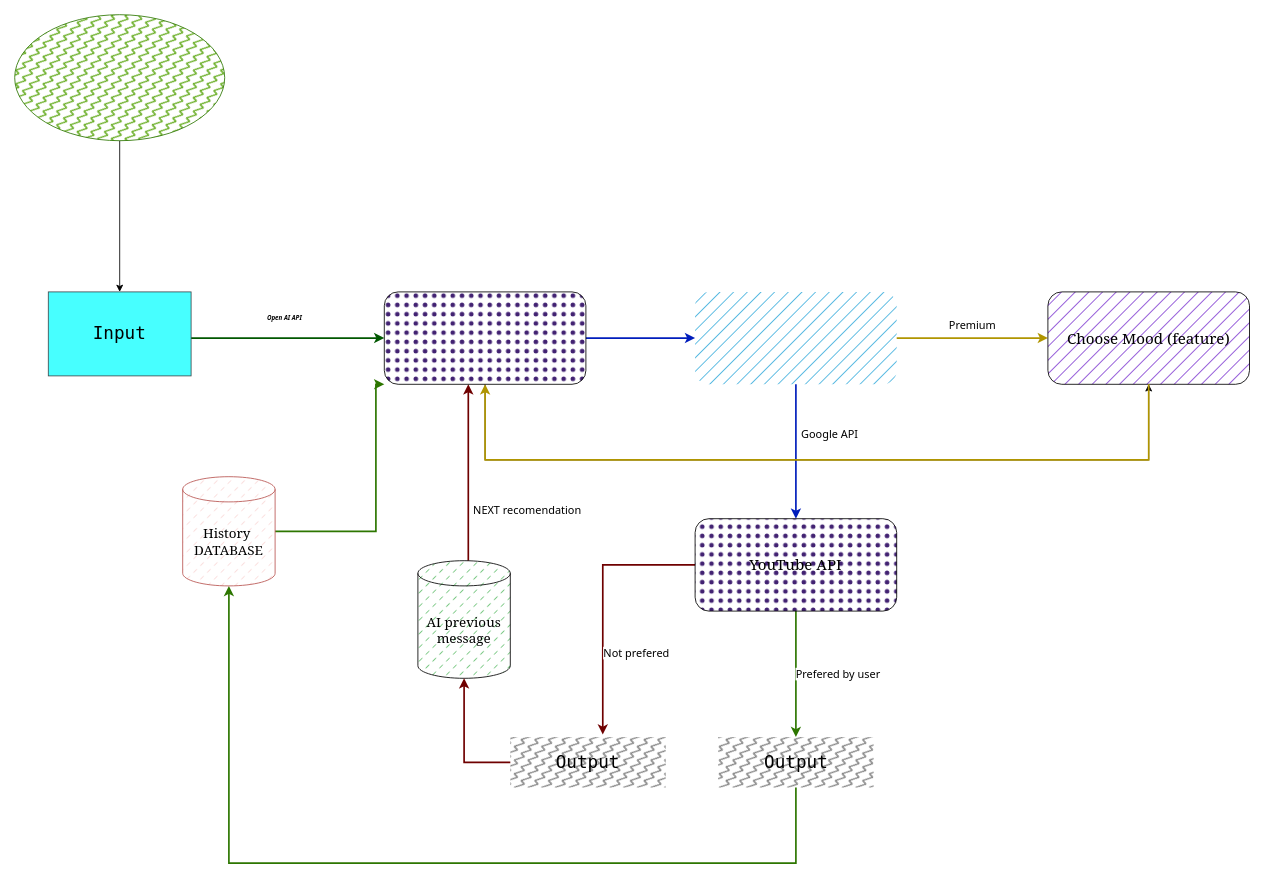
This 1264x885 diagram has some shape labels left out. Each missing label, with the centre of its shape:
Chat-GPT-3.5 turbo: point 484,337
Data extraction: point 795,337
Program: point 119,77
